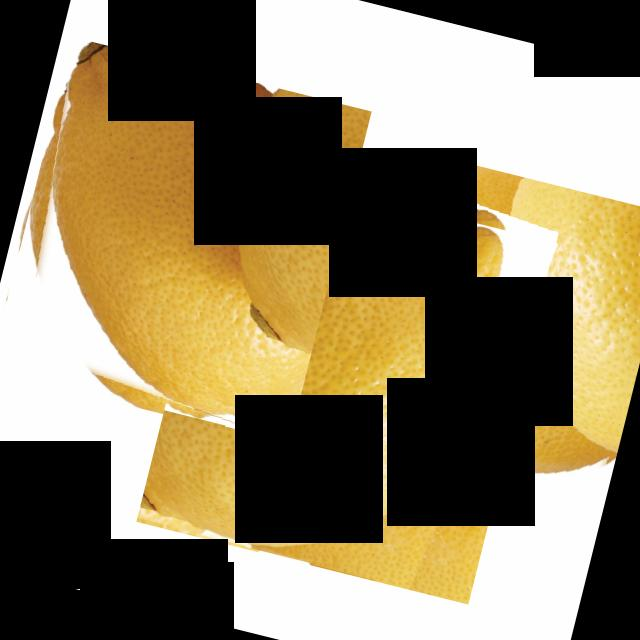lemon: (135, 160, 558, 604), (0, 37, 370, 445), (340, 150, 640, 511)
